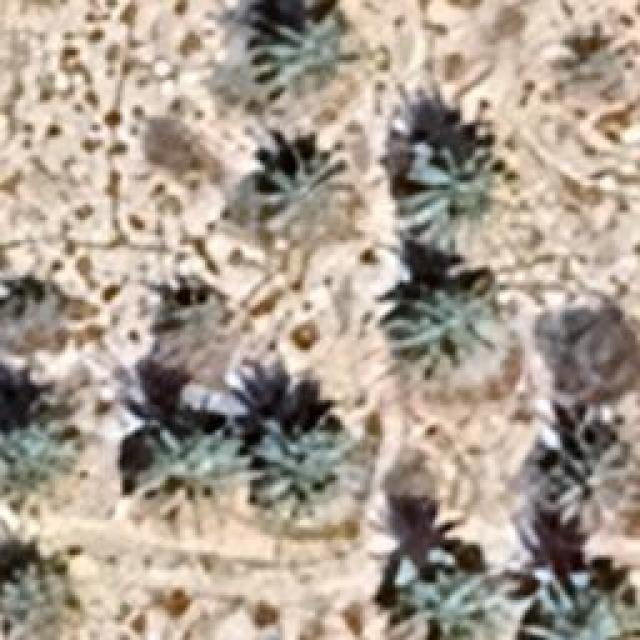PalmTree: (1, 240, 109, 388), (394, 262, 508, 396), (392, 142, 510, 255), (134, 428, 248, 538), (245, 150, 370, 240), (132, 275, 225, 390), (542, 420, 638, 530), (251, 407, 341, 512), (0, 395, 85, 500), (5, 547, 100, 640), (387, 568, 505, 638), (252, 18, 352, 92), (522, 578, 610, 638)
